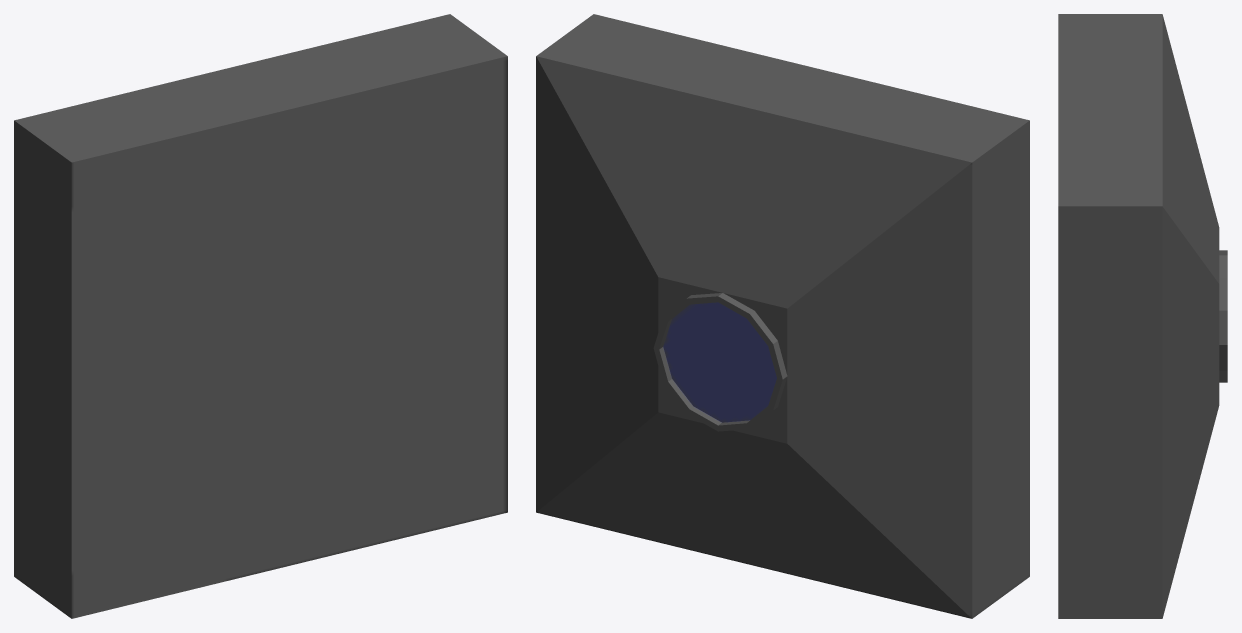
The model's file is camera.glb.
3 views of the same model, side by side, from view 1: azimuth 30°, elevation 25°; view 2: azimuth 150°, elevation 25°; view 3: azimuth 270°, elevation 25° (orthographic). The views are drawn at different scales.
Visible parts, largest first — view 1: 摄像头; view 2: 摄像头; view 3: 摄像头.
Part boxes in pixels (x1=…): 摄像头: x1=14, y1=14, x2=507, y2=618; 摄像头: x1=536, y1=14, x2=1029, y2=618; 摄像头: x1=1058, y1=14, x2=1227, y2=618.
Bounding box in the file's own units: 0.0378 × 0.0378 × 0.014.
2 materials, 2 textured.
